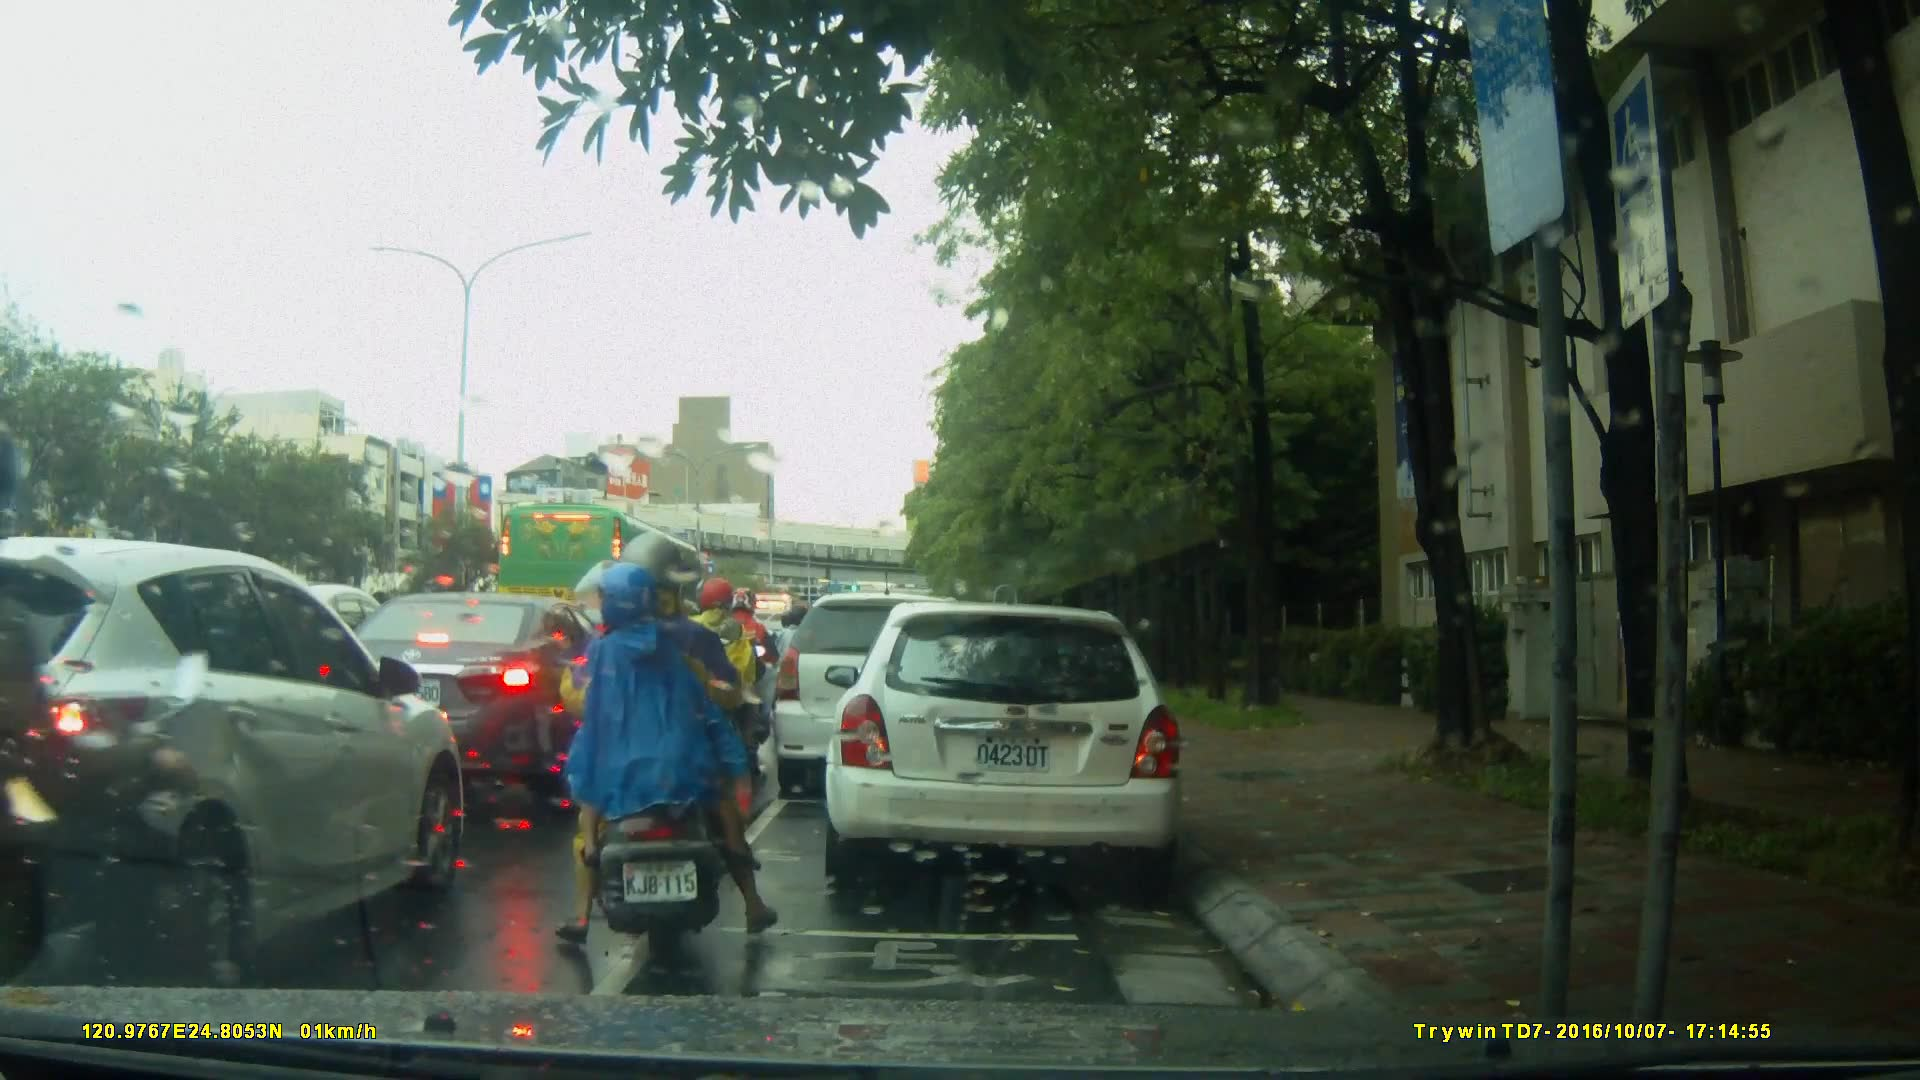rider: (1, 432, 243, 1080), (529, 528, 791, 961), (682, 575, 766, 804), (721, 592, 778, 748), (776, 598, 821, 723)
vehicle: (5, 535, 470, 988), (831, 592, 1196, 897), (314, 589, 629, 776), (770, 590, 999, 804), (499, 503, 713, 636)
